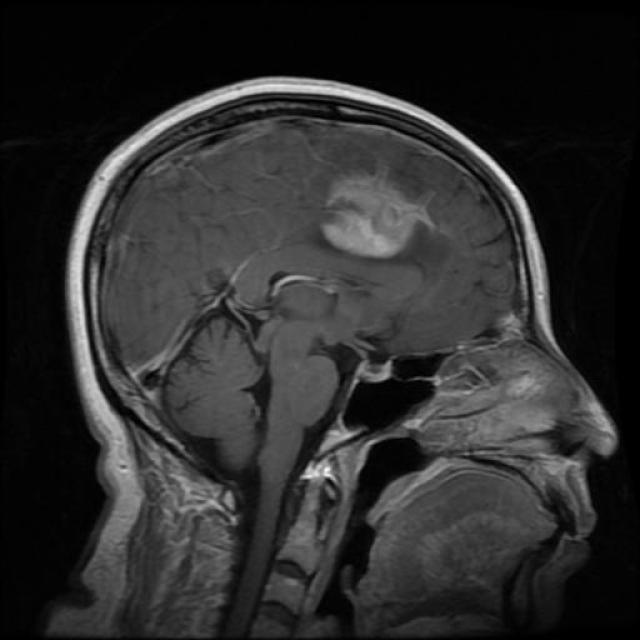meningioma: (312, 147, 460, 272)
